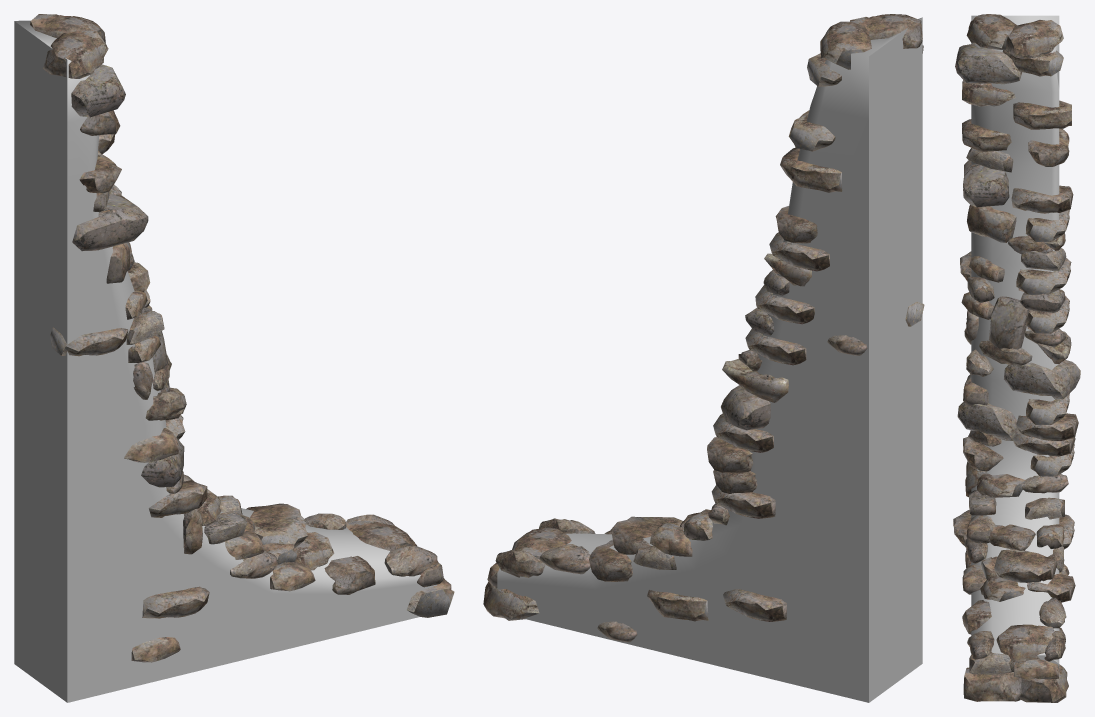
The model's file is SM_Wall02.FBX.
3 views of the same model, side by side, from view 1: azimuth 30°, elevation 25°; view 2: azimuth 150°, elevation 25°; view 3: azimuth 270°, elevation 25° (orthographic). The views are drawn at different scales.
Visible parts, largest first — view 1: SM_Wall02; view 2: SM_Wall02; view 3: SM_Wall02.
Part boxes in pixels (x1,y1,x2,y2): SM_Wall02: (14, 14, 454, 702); SM_Wall02: (483, 14, 924, 702); SM_Wall02: (953, 14, 1080, 702).
Size of the model in its own units: 647 by 217 by 1012.
